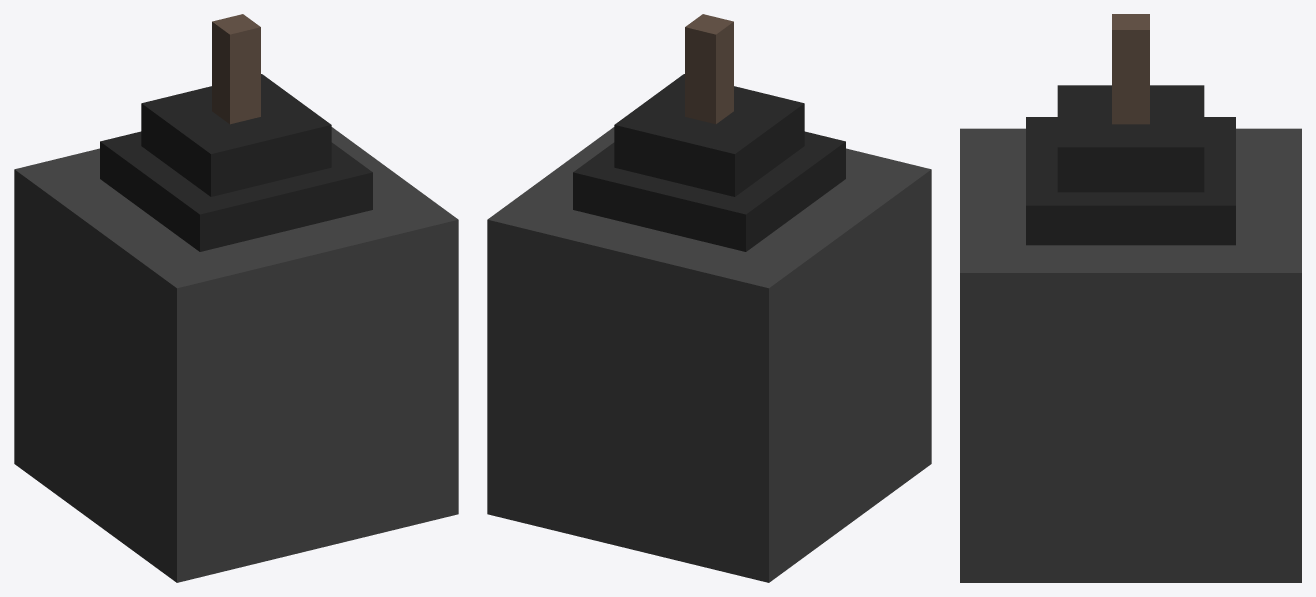
File: Bomba.fbx
3 views of the same model, side by side, from view 1: azimuth 30°, elevation 25°; view 2: azimuth 150°, elevation 25°; view 3: azimuth 270°, elevation 25° (orthographic). The views are drawn at different scales.
Visible parts, largest first — view 1: Cubo; view 2: Cubo; view 3: Cubo.
Boxes of the visible parts, x1,y1,x2,y2 form: Cubo: (14,14,458,582); Cubo: (487,14,931,582); Cubo: (960,14,1301,582).
Size of the model in its own units: 90.72 by 143 by 90.72.
